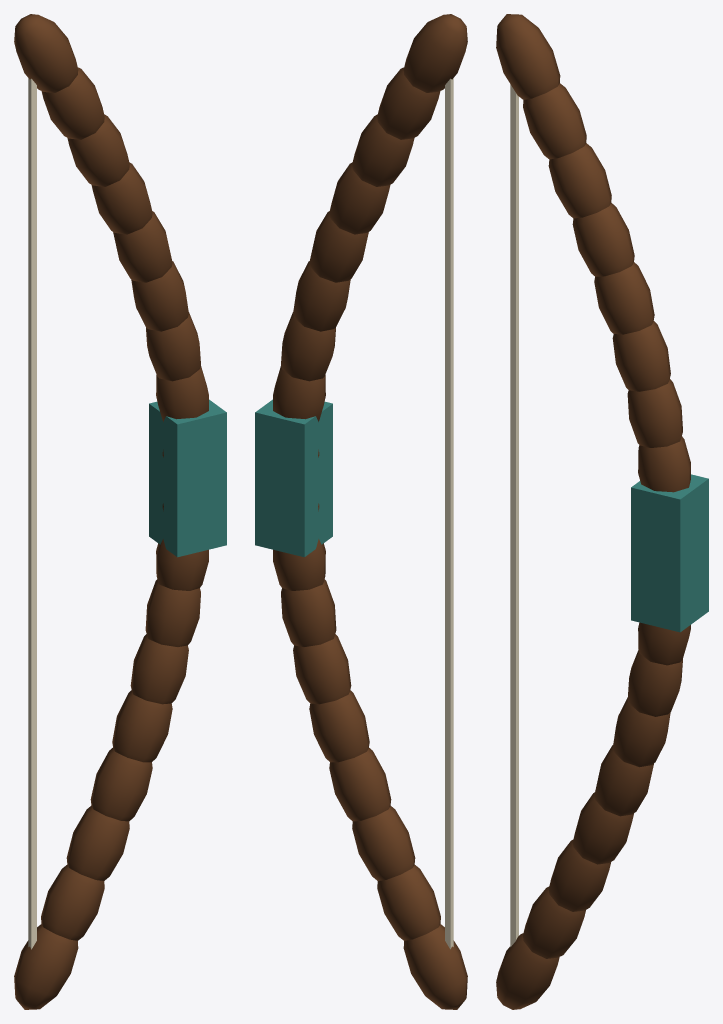
File: bow.glb
The picture shows the model from 3 angles, left to right: view 1: azimuth 30°, elevation 25°; view 2: azimuth 150°, elevation 25°; view 3: azimuth 330°, elevation 25°; orthographic projection.
Visible parts, largest first — view 1: BowLimb, GripWrap, String; view 2: BowLimb, GripWrap, String; view 3: BowLimb, GripWrap, String.
Part boxes in pixels (<box>): BowLimb: <box>14,14,208,1009</box>; GripWrap: <box>149,399,226,557</box>; String: <box>28,78,36,949</box>; BowLimb: <box>273,14,467,1009</box>; GripWrap: <box>255,399,332,557</box>; String: <box>445,78,453,949</box>; BowLimb: <box>496,14,690,1009</box>; GripWrap: <box>631,474,708,632</box>; String: <box>510,84,518,946</box>.
Bounding box in the file's own units: 0.2778 × 1.34 × 0.07.
